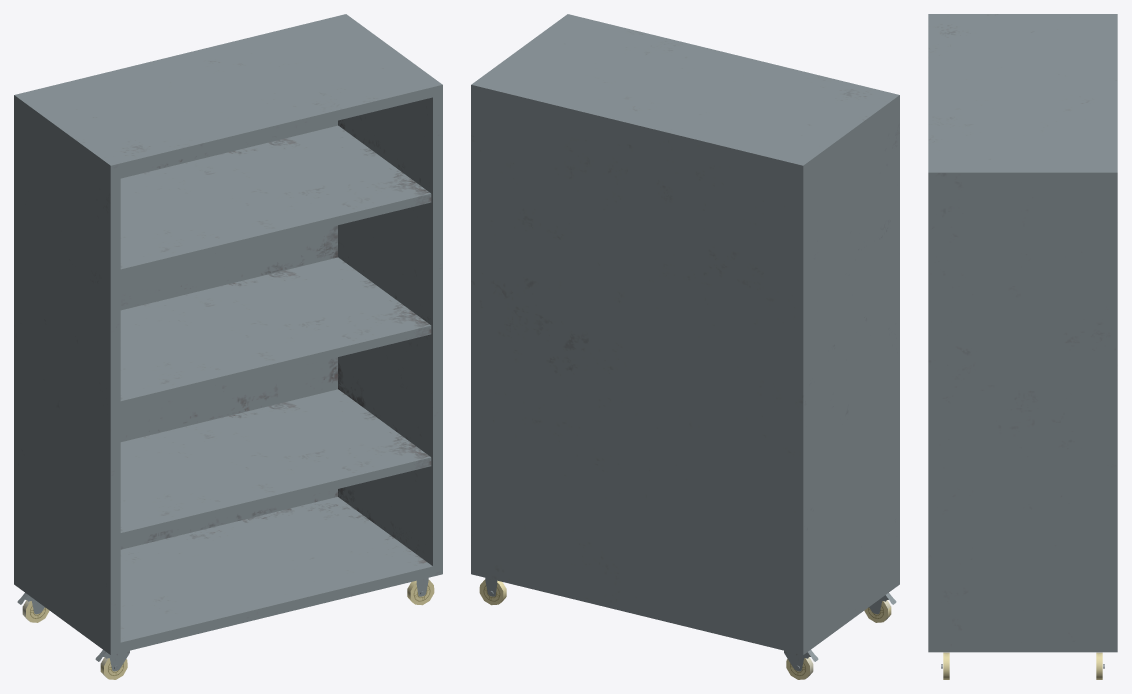
Rendered from tieyun02.FBX.
The picture shows the model from 3 angles, left to right: view 1: azimuth 30°, elevation 25°; view 2: azimuth 150°, elevation 25°; view 3: azimuth 270°, elevation 25°; orthographic projection. The views are drawn at different scales.
Visible parts, largest first — view 1: Box001; view 2: Box001; view 3: Box001.
Part boxes in pixels (x1,y1,x2,y2): Box001: (14,14,442,679); Box001: (471,14,899,679); Box001: (928,14,1117,679).
Bounding box in the file's own units: 101 × 151 × 50.42.
1 material, 1 textured.
